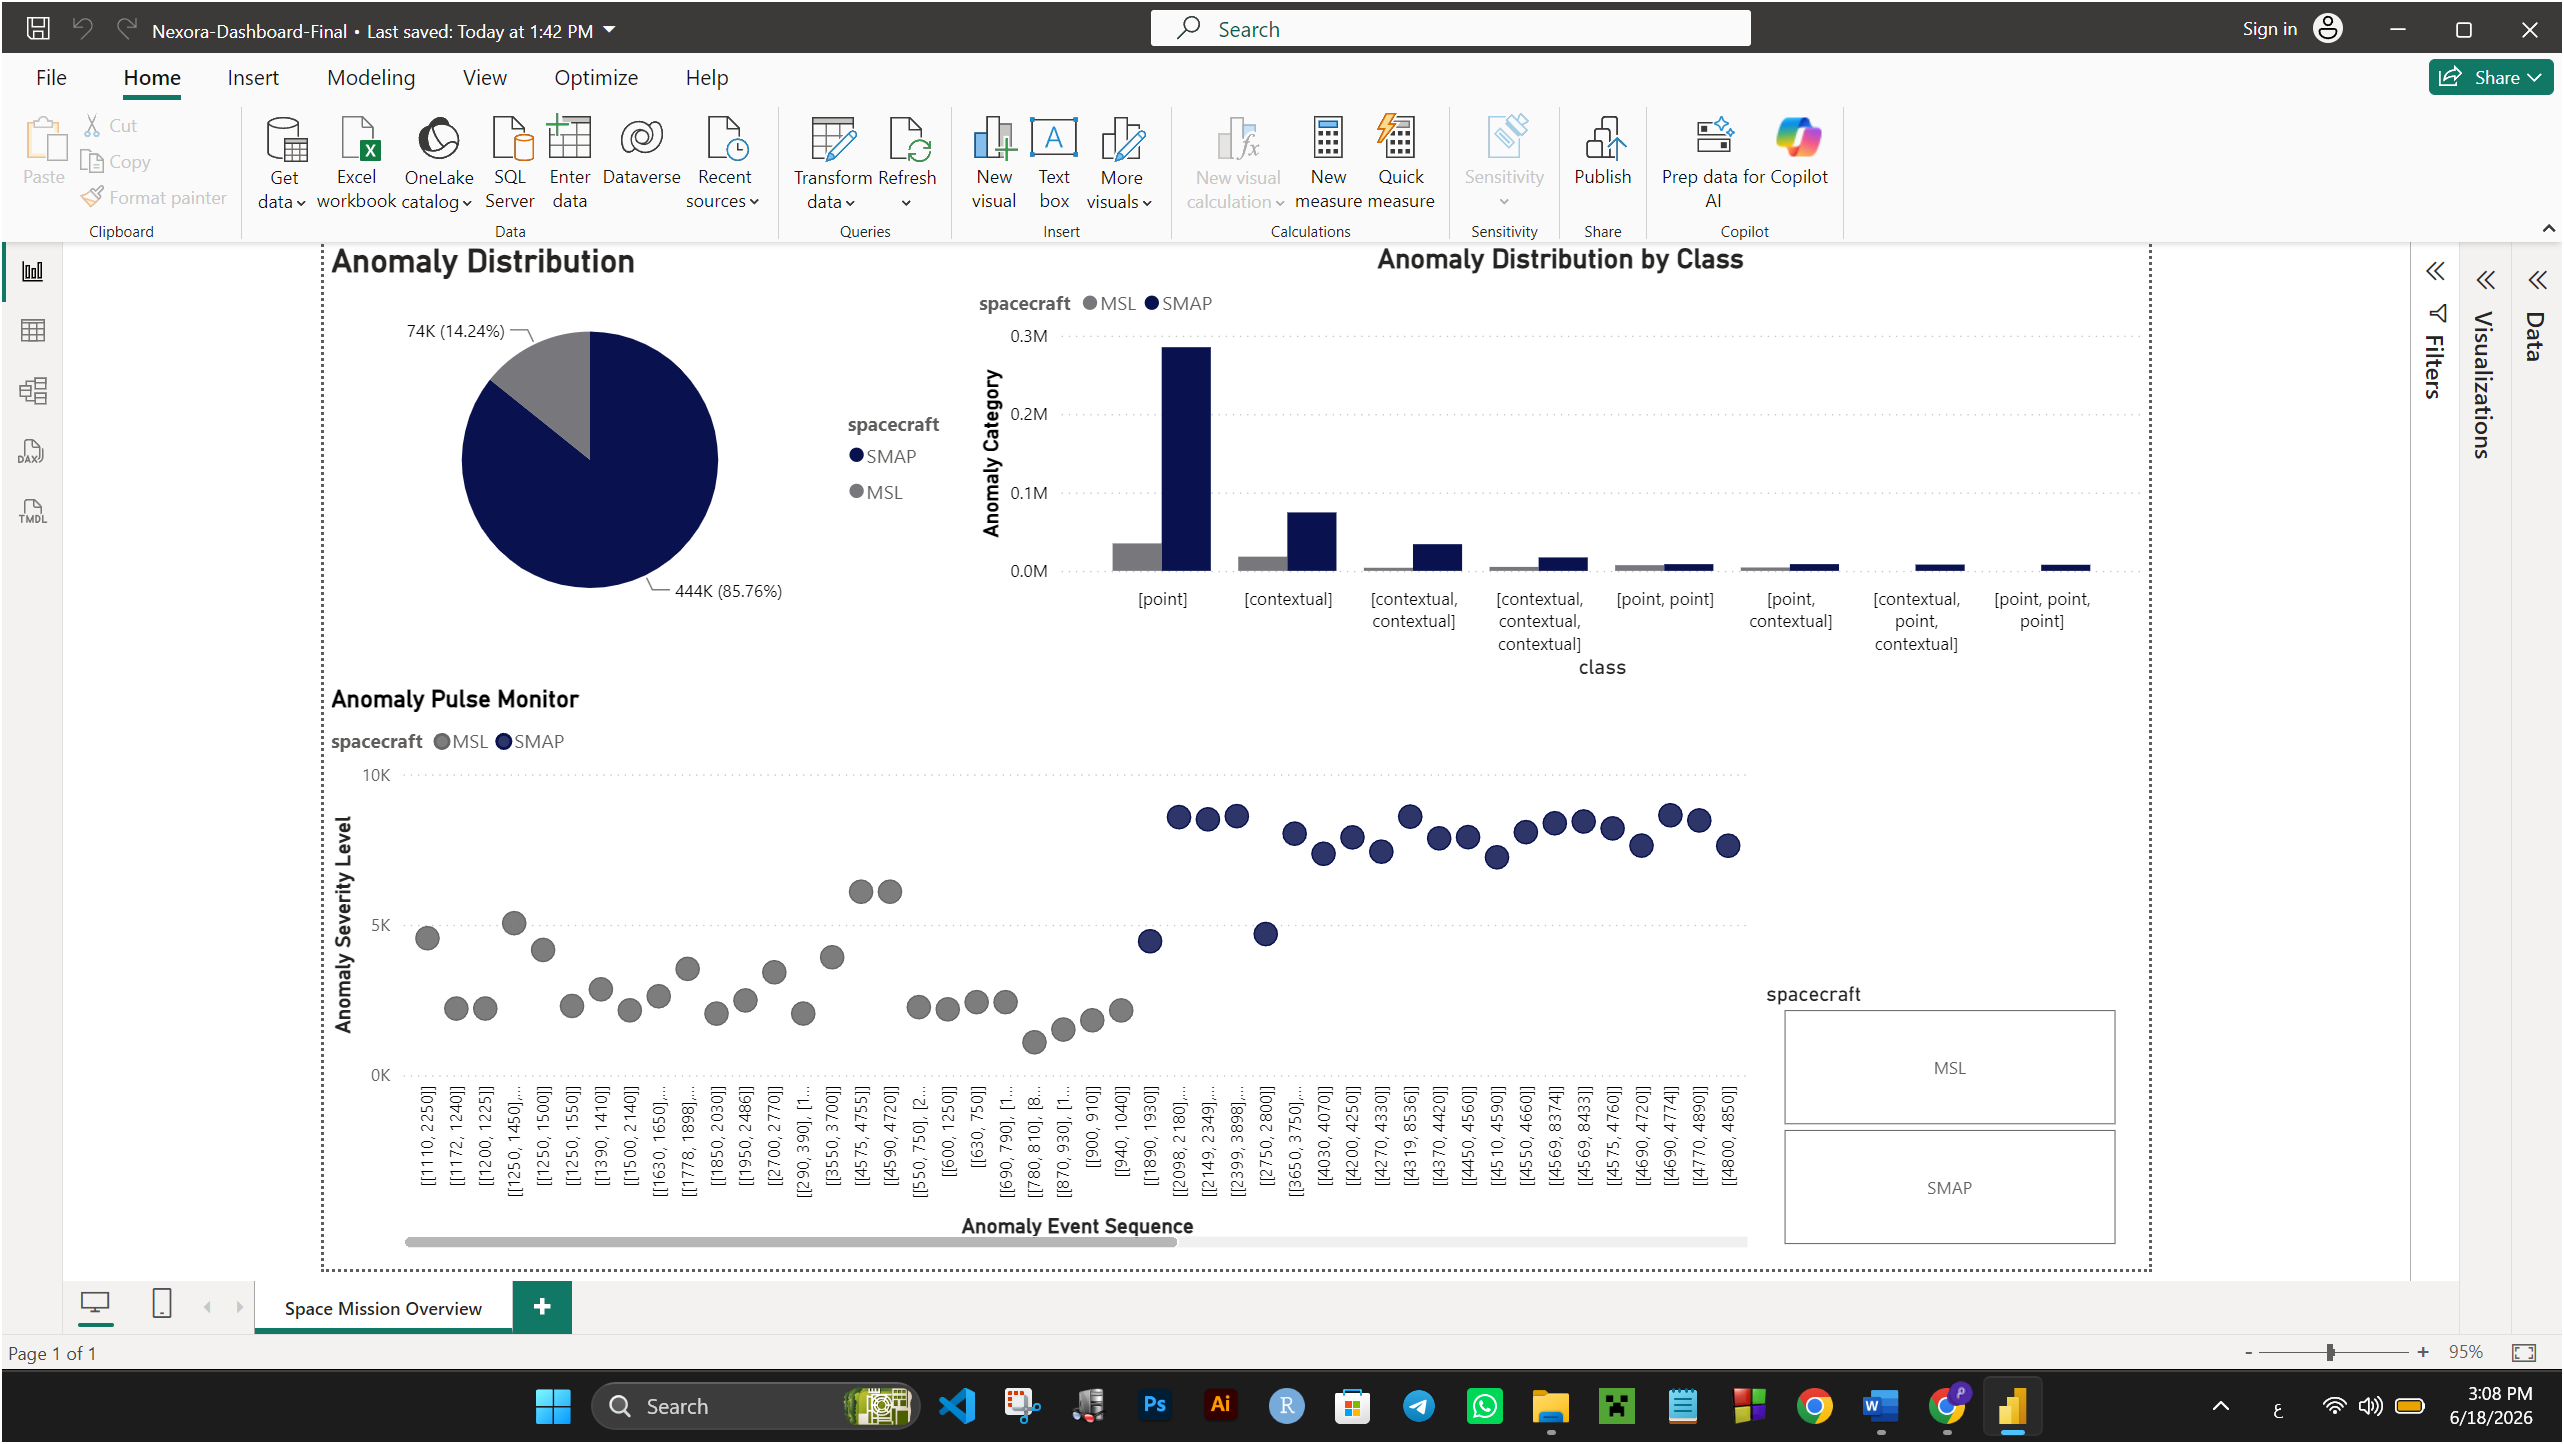

The page's visual inventory and layout, read from the dashboard file:
{"tool":"powerbi","page":{"name":"Space Mission Overview","canvas":[1280,720],"ordinal":0},"visuals":[{"type":"pieChart","title":"Anomaly Distribution","fields":{"Category":["labeled_anomalies.spacecraft"],"Y":["Sum(labeled_anomalies.num_values)"]},"box":[0,0,454.3,278.7],"z":0},{"type":"clusteredColumnChart","title":"Anomaly Distribution by Class","fields":{"Category":["labeled_anomalies.class"],"Series":["labeled_anomalies.spacecraft"],"Y":["Sum(labeled_anomalies.num_values)"]},"box":[454.3,0,825.5,310.2],"z":1000},{"type":"scatterChart","title":"Anomaly Pulse Monitor","fields":{"X":["labeled_anomalies.anomaly_sequences"],"Y":["Sum(labeled_anomalies.num_values)"],"Series":["labeled_anomalies.spacecraft"]},"box":[0,310.2,1005.4,399.6],"z":2000},{"type":"slicer","fields":{"Values":["labeled_anomalies.spacecraft"]},"box":[998,513.2,281.8,196.7],"z":3000}]}

Visuals, with their boxes on the page's 1280x720 design canvas (x1, y1, x2, y2). These are canvas units, not pixel positions in the 2564x1444 screenshot, which may show the page scaled, cropped or inside an application window:
"Anomaly Distribution" pieChart: [0,0,454,279]
"Anomaly Distribution by Class" clusteredColumnChart: [454,0,1280,310]
"Anomaly Pulse Monitor" scatterChart: [0,310,1005,710]
slicer - labeled_anomalies.spacecraft: [998,513,1280,710]
